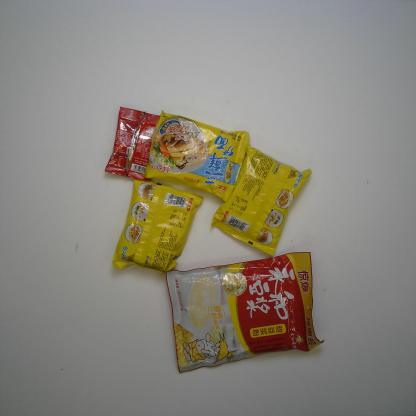Instant Drink: (163, 249, 325, 375), (102, 106, 168, 185)
Instant Noodles: (211, 145, 313, 257), (142, 110, 252, 202), (110, 176, 209, 274)
